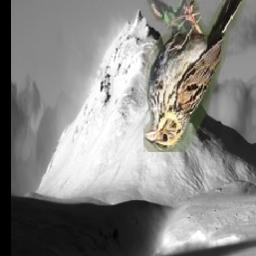Sparrow: (144, 0, 247, 152)
